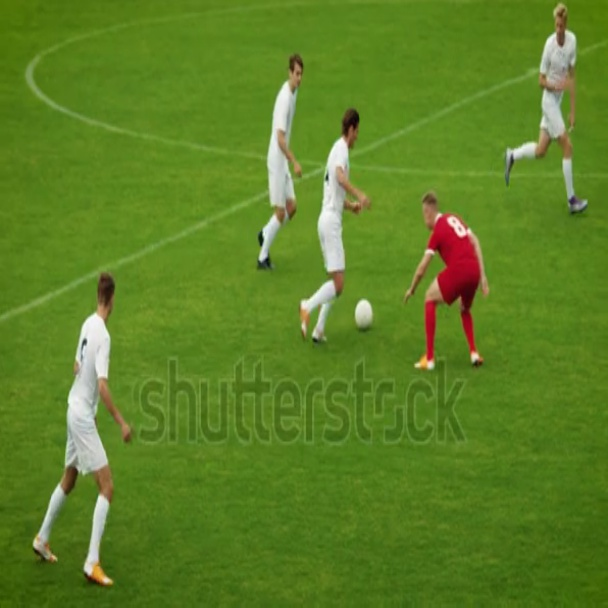ball: (358, 296, 374, 331)
